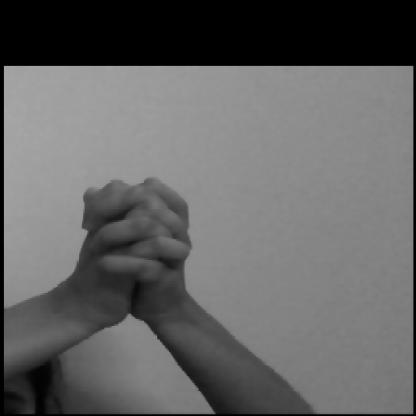prayer: (33, 158, 230, 380)
